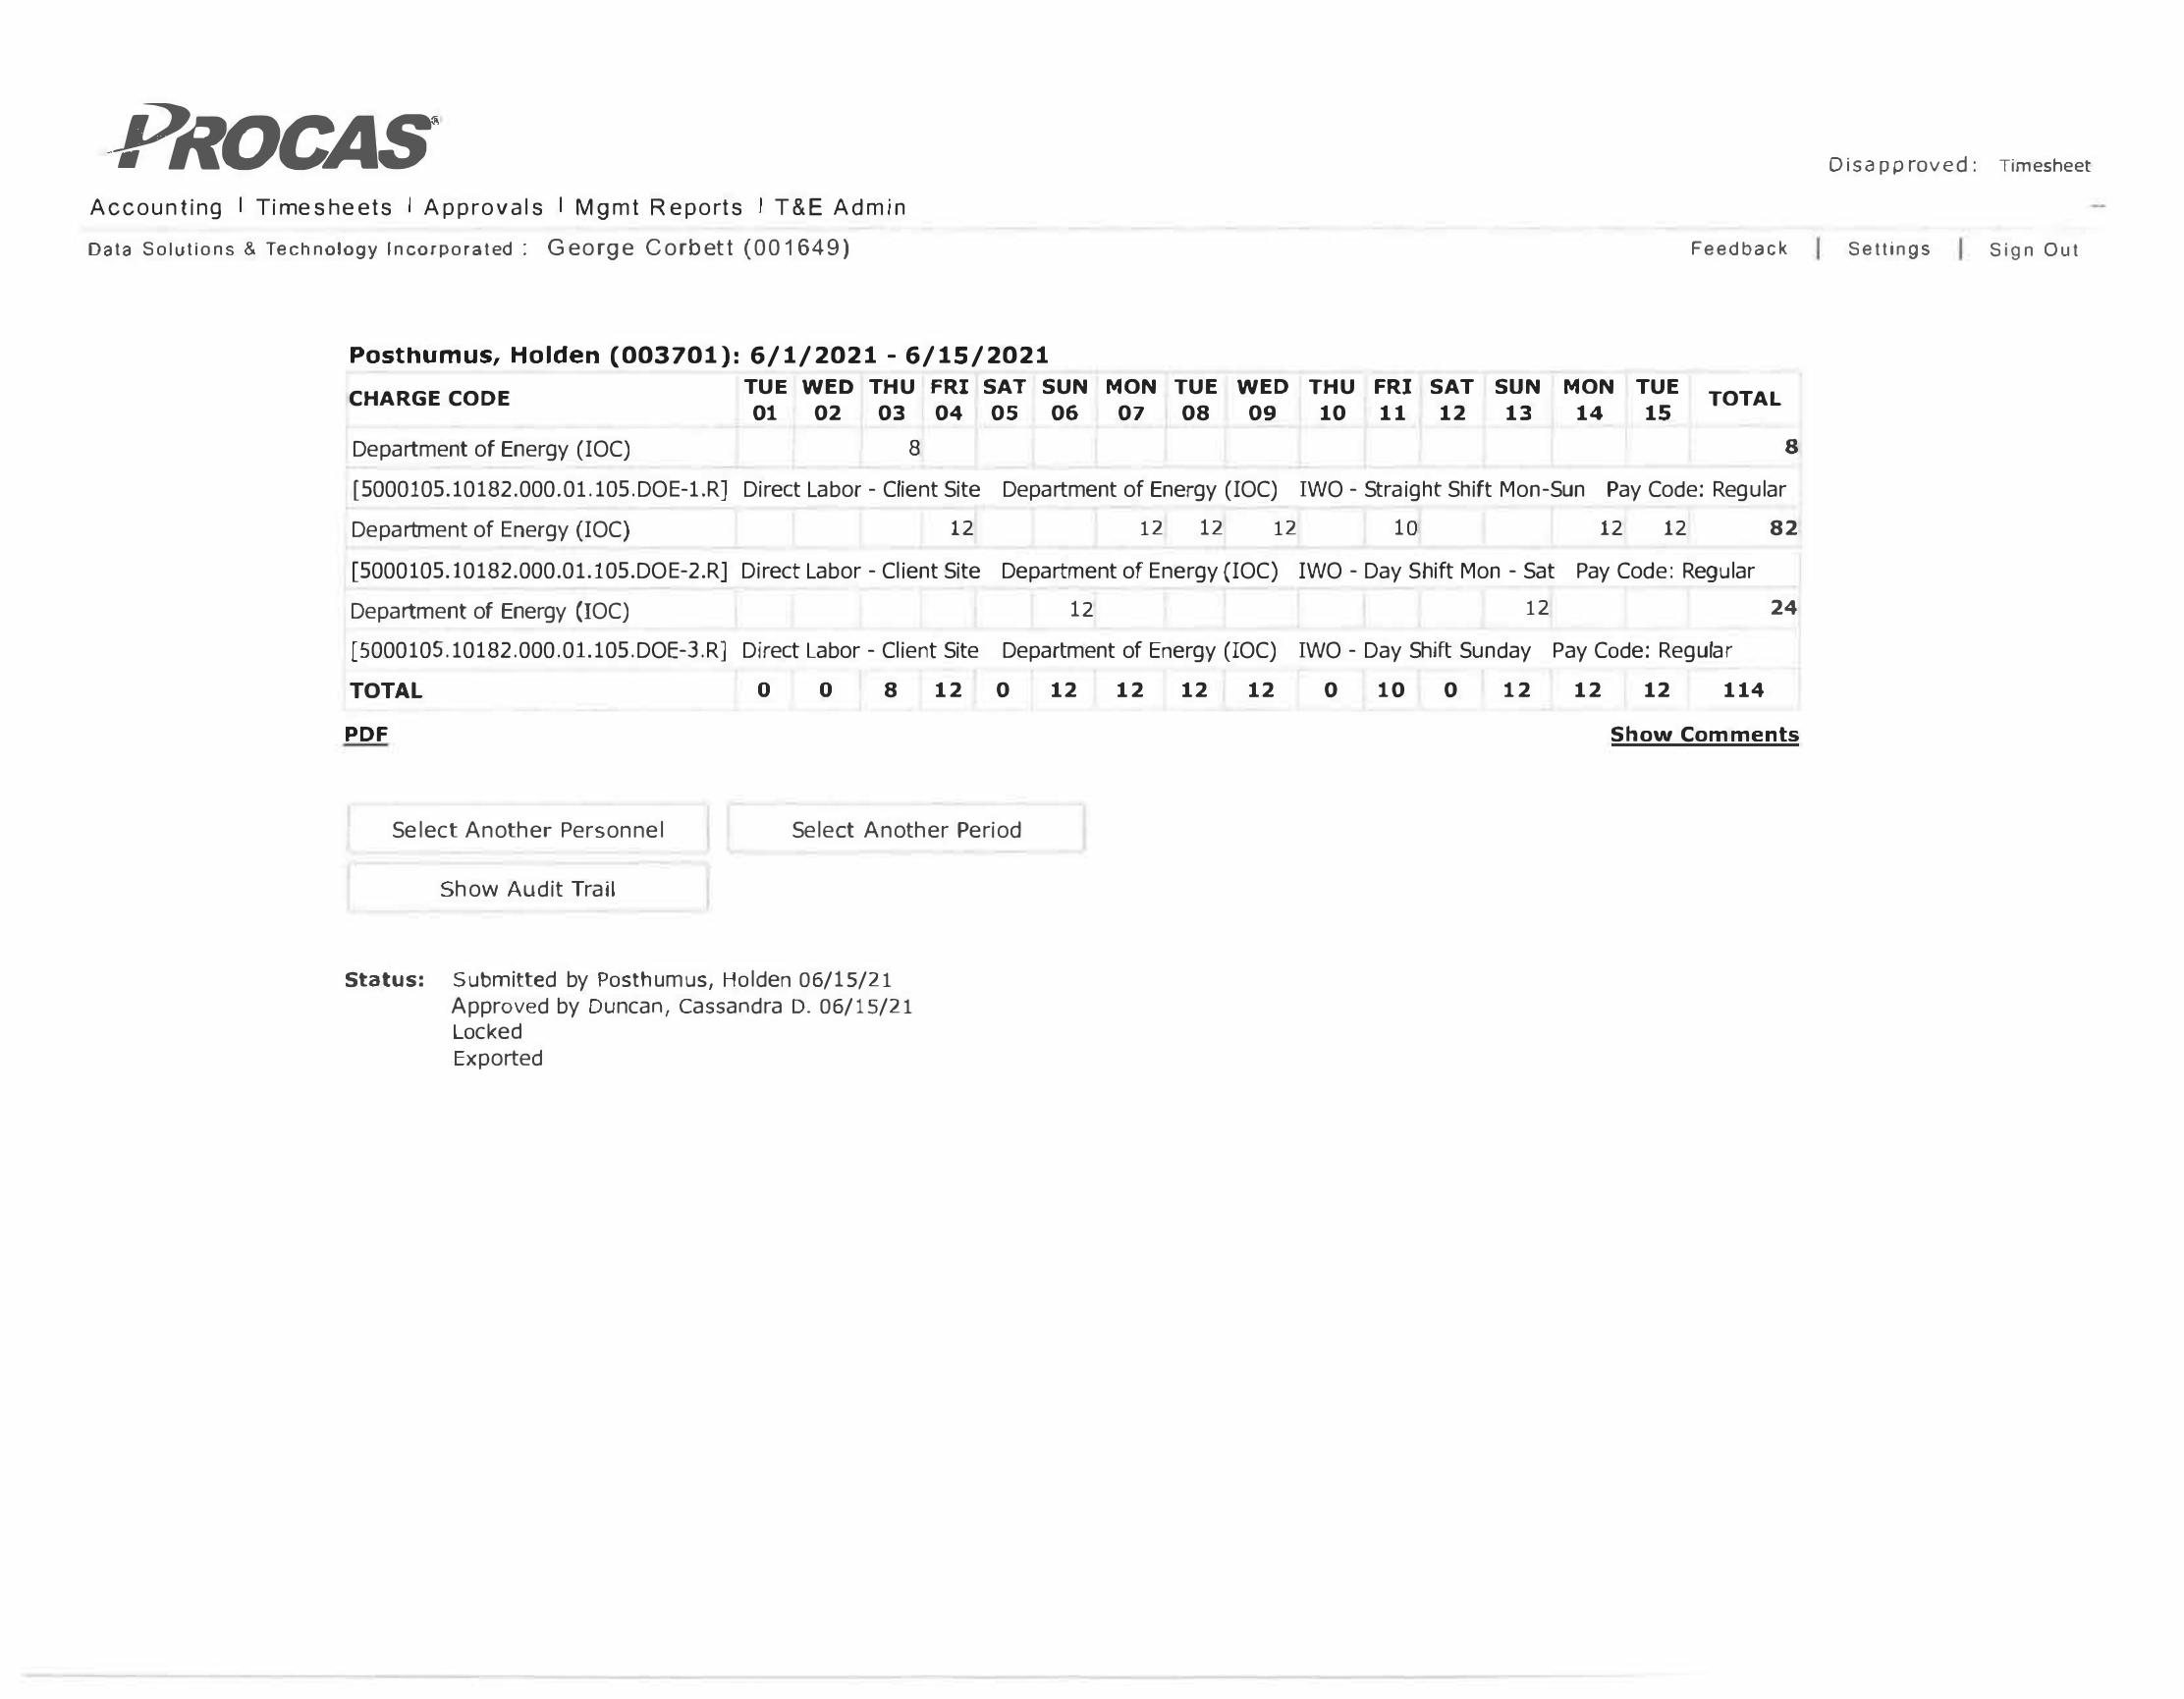table: (330, 369, 1822, 720)
